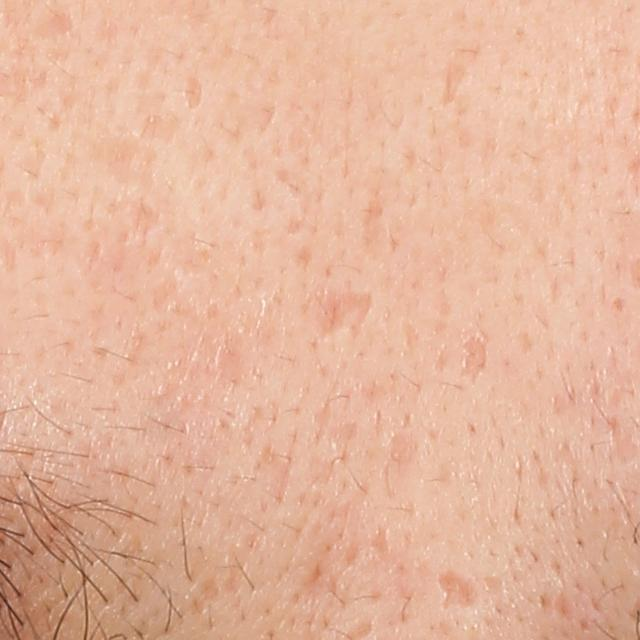atrophic_scar: (312, 284, 376, 335), (87, 132, 145, 187), (432, 568, 488, 616), (126, 196, 164, 246), (461, 325, 493, 381), (25, 9, 73, 39), (445, 56, 467, 110), (181, 68, 204, 112), (371, 523, 393, 566)
